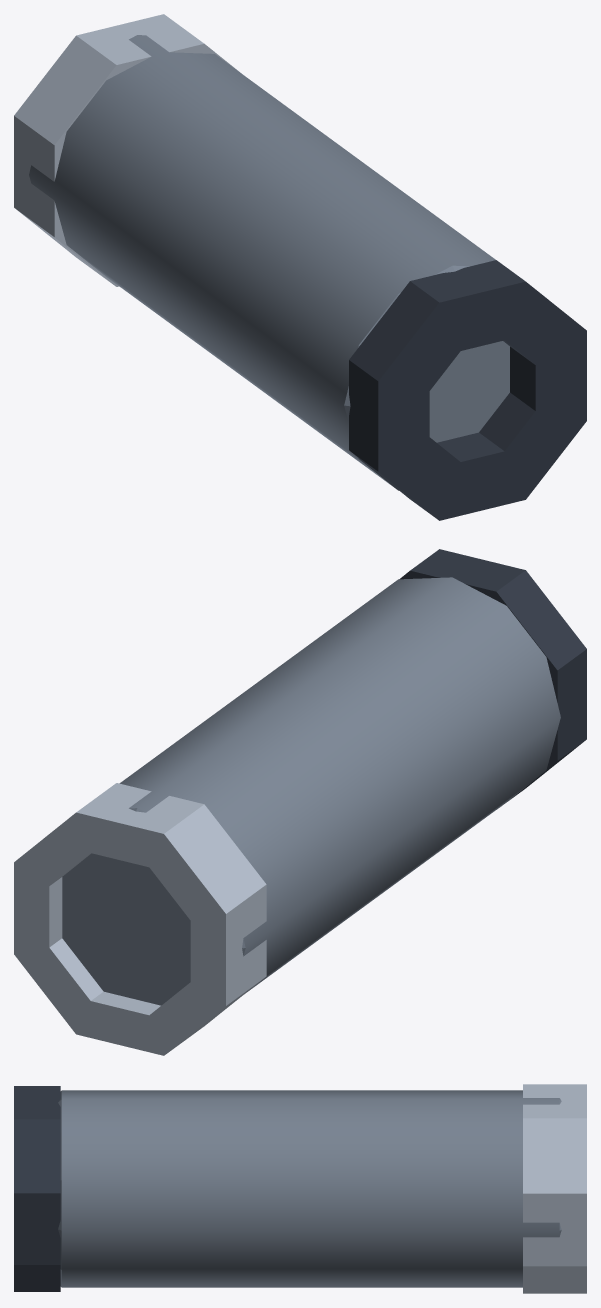
The model's file is Module_Suppressor_v001.fbx.
The picture shows the model from 3 angles, top to bottom: view 1: azimuth 30°, elevation 25°; view 2: azimuth 150°, elevation 25°; view 3: azimuth 270°, elevation 25°; orthographic projection. The views are drawn at different scales.
Visible parts, largest first — view 1: Module_Suppressor__RECEIVER_MESH; view 2: Module_Suppressor__RECEIVER_MESH; view 3: Module_Suppressor__RECEIVER_MESH.
Part boxes in pixels (bbox=[...]): Module_Suppressor__RECEIVER_MESH: bbox=[14, 14, 586, 520]; Module_Suppressor__RECEIVER_MESH: bbox=[14, 549, 586, 1055]; Module_Suppressor__RECEIVER_MESH: bbox=[14, 1084, 586, 1293].
Bounding box in the file's own units: 0.34 × 0.34 × 0.985.
